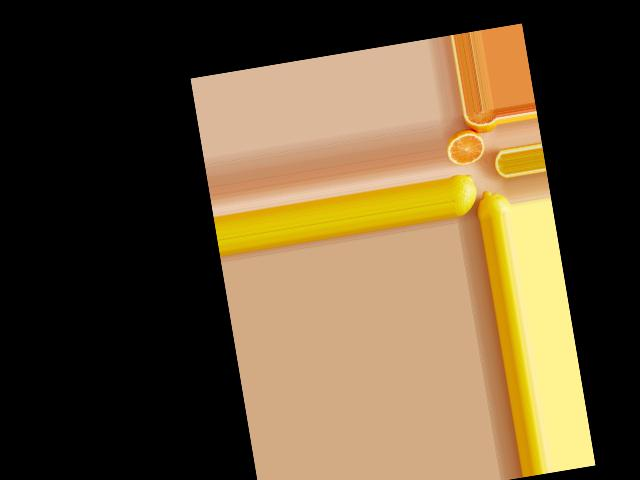lemon: (472, 185, 510, 220)
